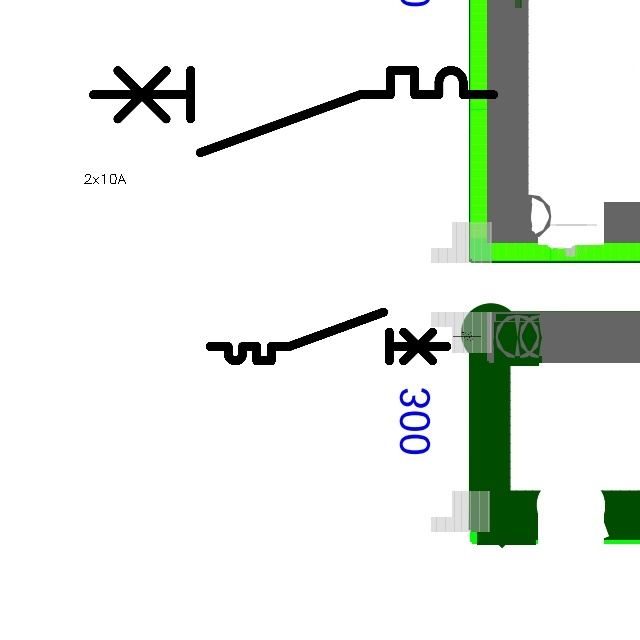interruptor_termomagnetico: (83, 60, 504, 163), (204, 306, 453, 367)
